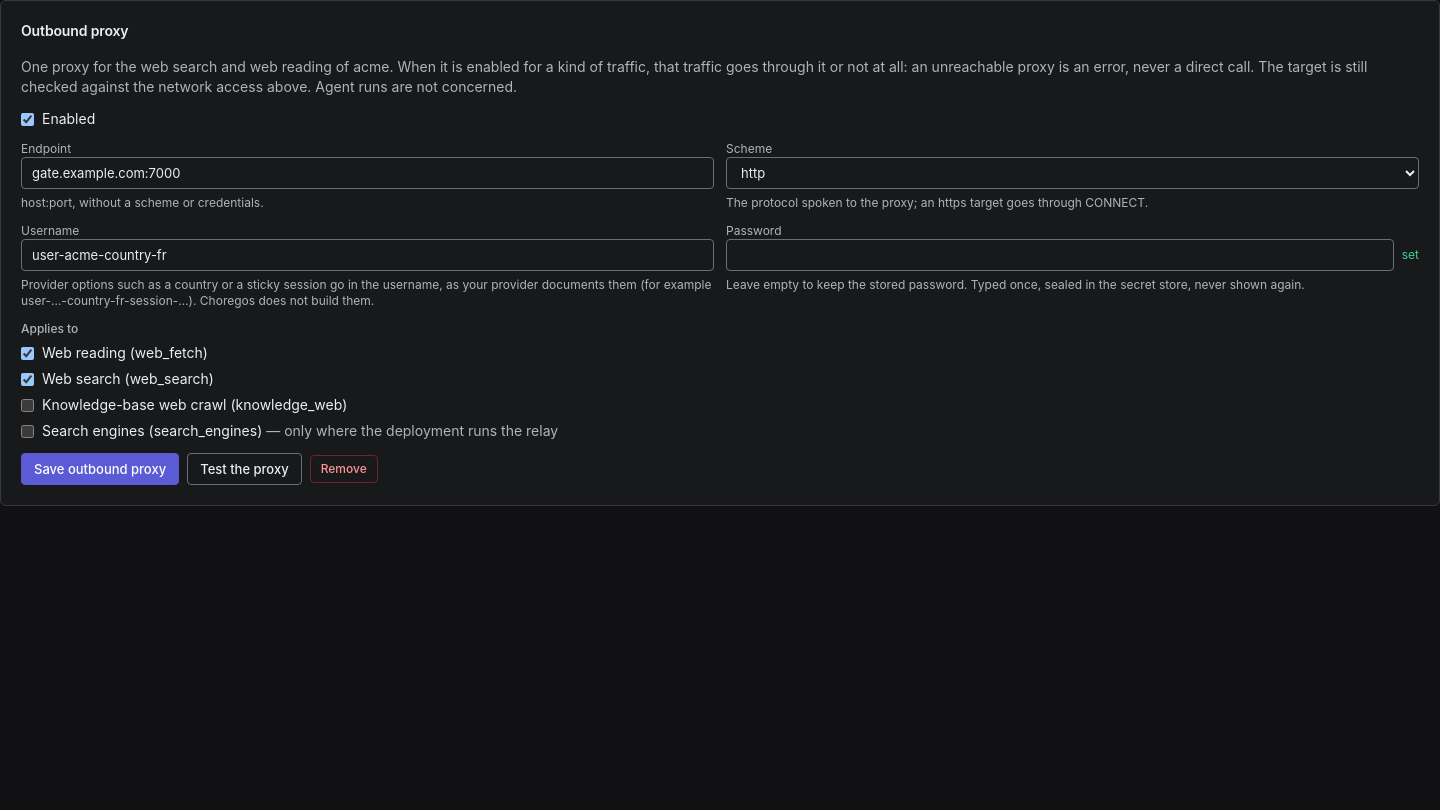
the organisation's outbound proxy (ADR 0087) › shows the API's refusal as returned
Expected: the field showing "gate.example.com:7000" is shown, x1=21 y1=157 x2=714 y2=189
Click the button "Save outbound proxy" at (100, 469), box x1=21 y1=453 x2=179 y2=485
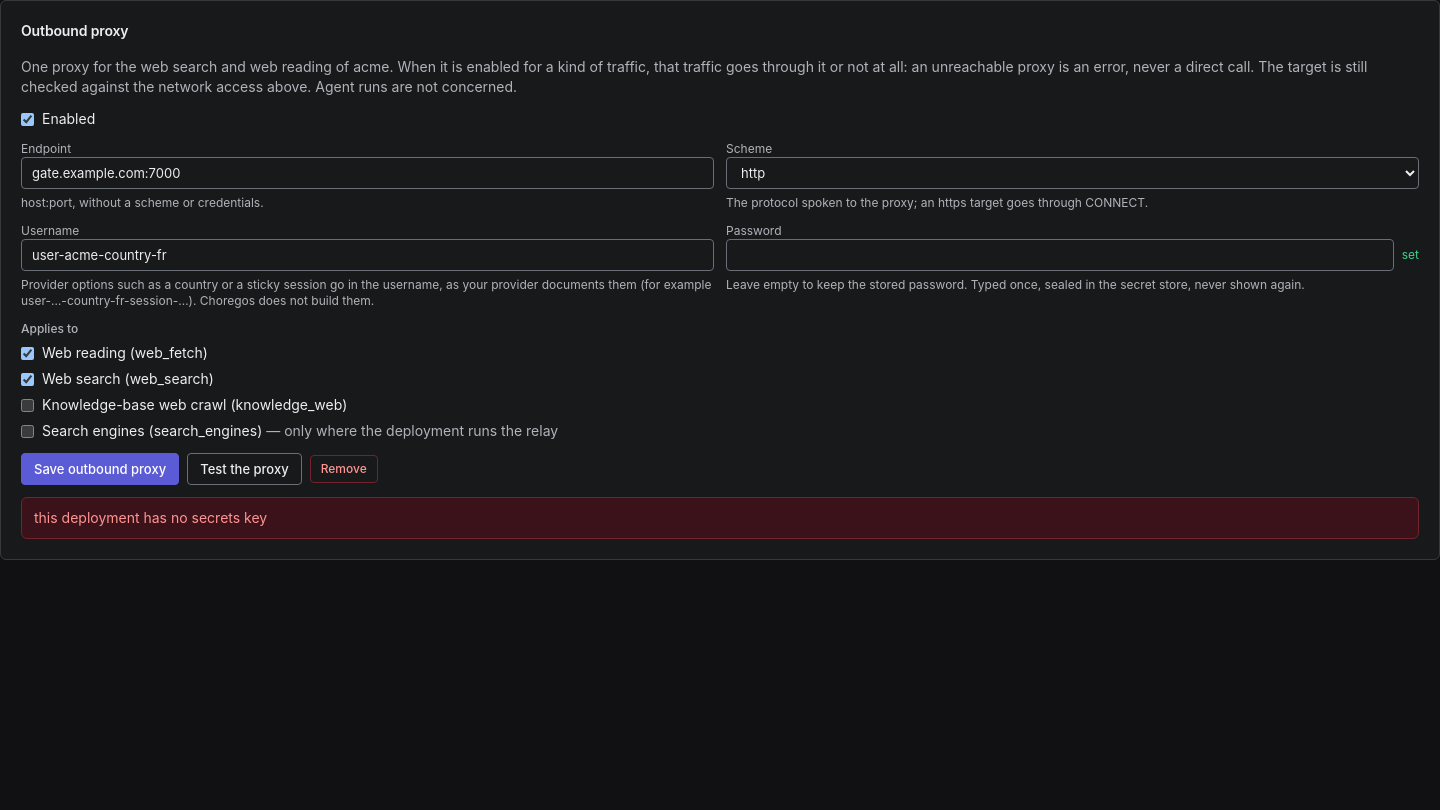
Result: the text "this deployment has no secrets key" is shown at x1=34 y1=509 x2=267 y2=526
